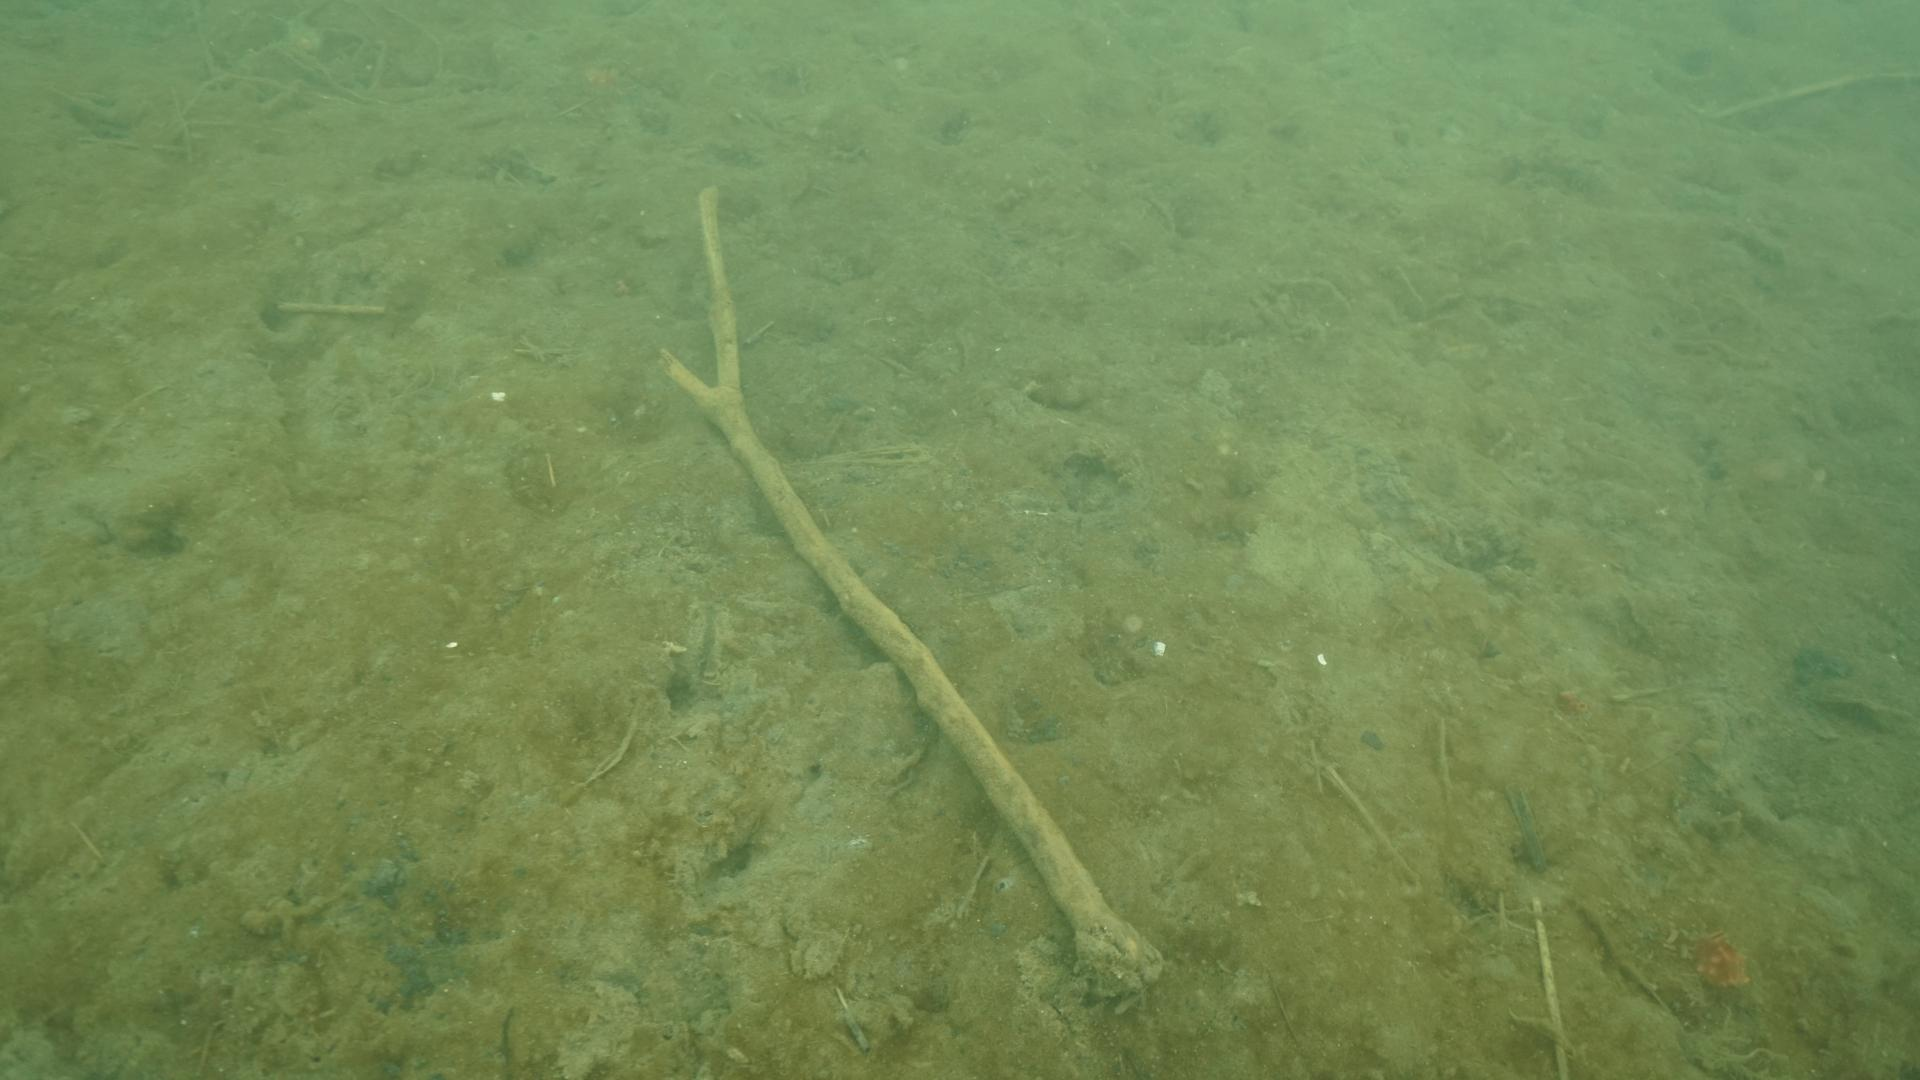wood: (655, 183, 1162, 998)
